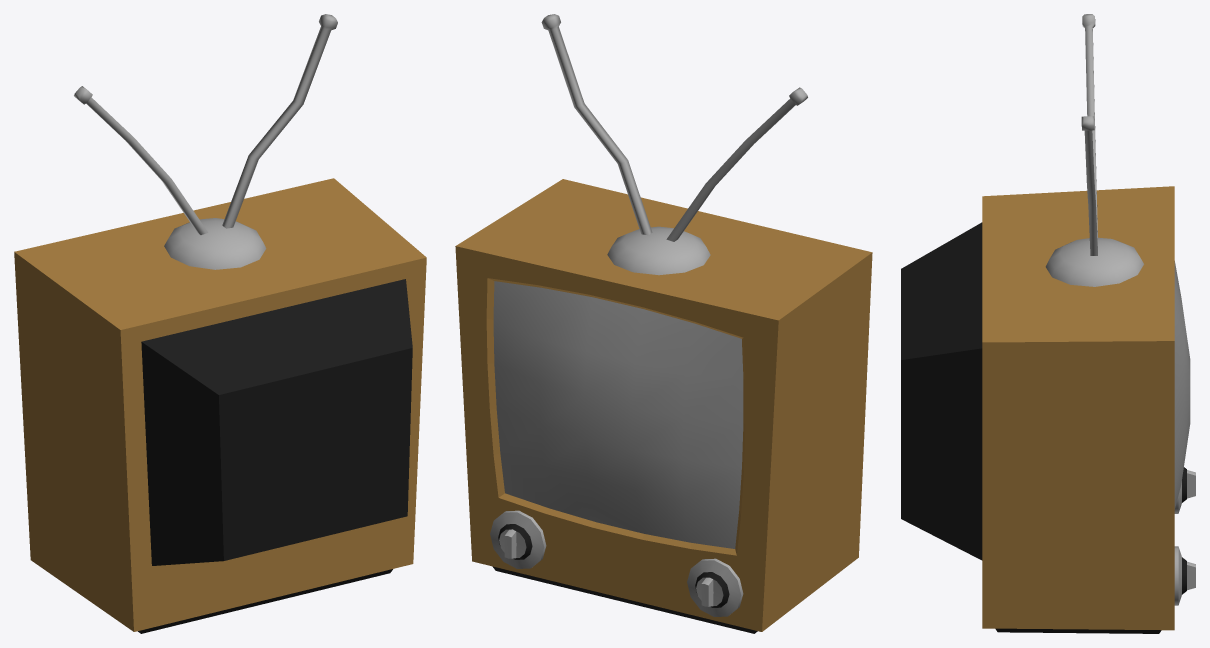
3 renders of one model, left to right at view 1: azimuth 30°, elevation 25°; view 2: azimuth 150°, elevation 25°; view 3: azimuth 270°, elevation 25°, orthographic. The views are drawn at different scales.
Parts seen in each view (by area): view 1: TV_Box, AntennaBase, Antenna1, Antenna2; view 2: TV_Box, TV_Screen, AntennaBase, Antenna1, TV_Knob1, TV_Knob2, Antenna2; view 3: TV_Box, AntennaBase, TV_Screen, Antenna1, Antenna2, TV_Knob1, TV_Knob2.
Part boxes in pixels (x1,y1,x2,y2): TV_Box: (14, 178, 426, 633); AntennaBase: (164, 218, 266, 269); Antenna1: (222, 14, 337, 228); Antenna2: (74, 86, 208, 234); TV_Box: (455, 179, 872, 633); TV_Screen: (493, 281, 743, 548); AntennaBase: (607, 226, 710, 275); Antenna1: (541, 14, 652, 235); TV_Knob1: (490, 510, 546, 568); TV_Knob2: (687, 558, 743, 616); Antenna2: (666, 87, 807, 241); TV_Box: (901, 186, 1174, 633); AntennaBase: (1045, 237, 1143, 286); TV_Screen: (1174, 261, 1190, 509); Antenna1: (1081, 116, 1097, 255); Antenna2: (1082, 14, 1097, 242); TV_Knob1: (1174, 546, 1195, 605); TV_Knob2: (1174, 467, 1195, 513).
Size of the model in its own units: 2.61 by 4.11 by 2.16.
